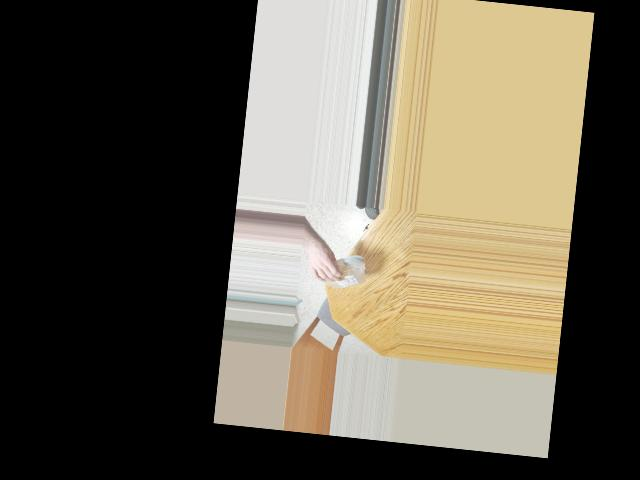cheese: (322, 254, 364, 291)
